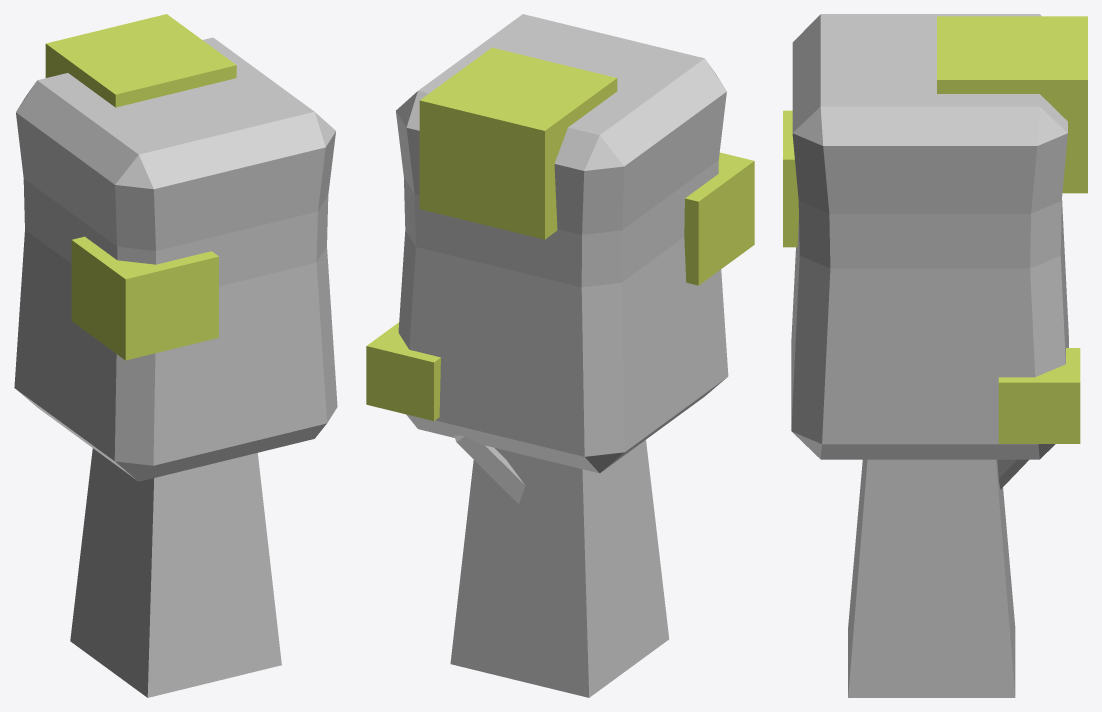
Rendered from Copac-2.fbx.
3 views of the same model, side by side, from view 1: azimuth 30°, elevation 25°; view 2: azimuth 150°, elevation 25°; view 3: azimuth 270°, elevation 25° (orthographic). The views are drawn at different scales.
Visible parts, largest first — view 1: Cube.010; view 2: Cube.010; view 3: Cube.010.
Boxes of the visible parts, box(x1,y1,x2,y2) form: Cube.010: box(14, 14, 337, 697); Cube.010: box(366, 14, 754, 697); Cube.010: box(783, 14, 1087, 697).
Size of the model in its own units: 1.73 by 3.98 by 1.79.
